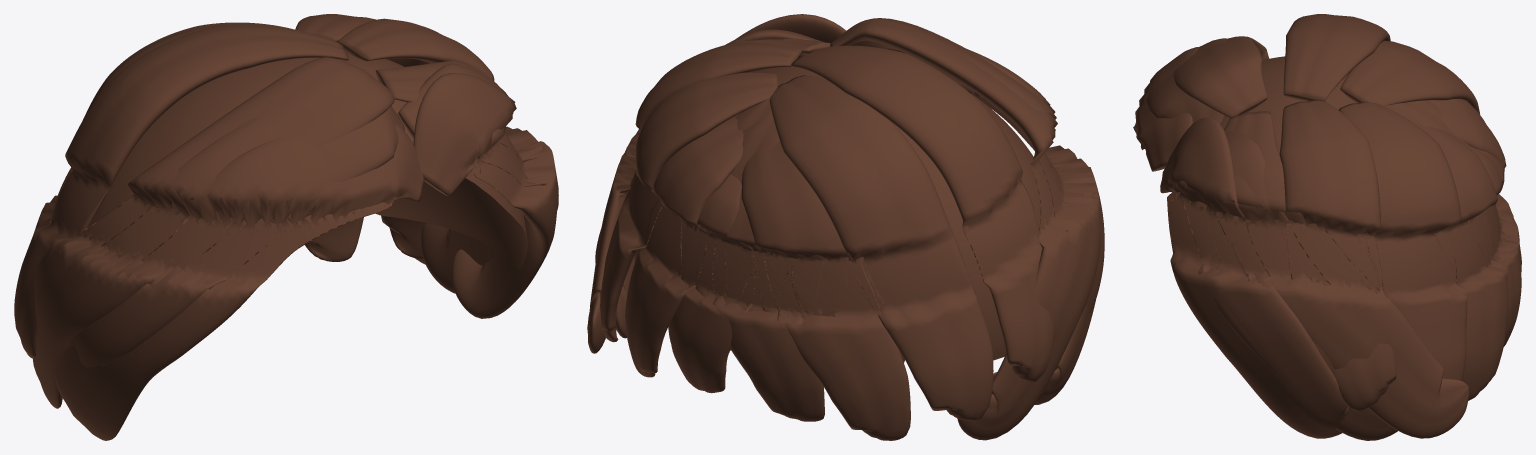
The model's file is Masculine-flow-headband261-hair.glb.
3 renders of one model, left to right at view 1: azimuth 30°, elevation 25°; view 2: azimuth 150°, elevation 25°; view 3: azimuth 270°, elevation 25°, orthographic. The views are drawn at different scales.
Visible parts, largest first — view 1: 226 hair / Hair260 / layered flow; view 2: 226 hair / Hair260 / layered flow; view 3: 226 hair / Hair260 / layered flow.
Part boxes in pixels (bbox=[...]): 226 hair / Hair260 / layered flow: bbox=[14, 14, 558, 440]; 226 hair / Hair260 / layered flow: bbox=[587, 14, 1104, 440]; 226 hair / Hair260 / layered flow: bbox=[1133, 14, 1521, 440].
Size of the model in its own units: 1.12 by 0.7722 by 0.8635.
